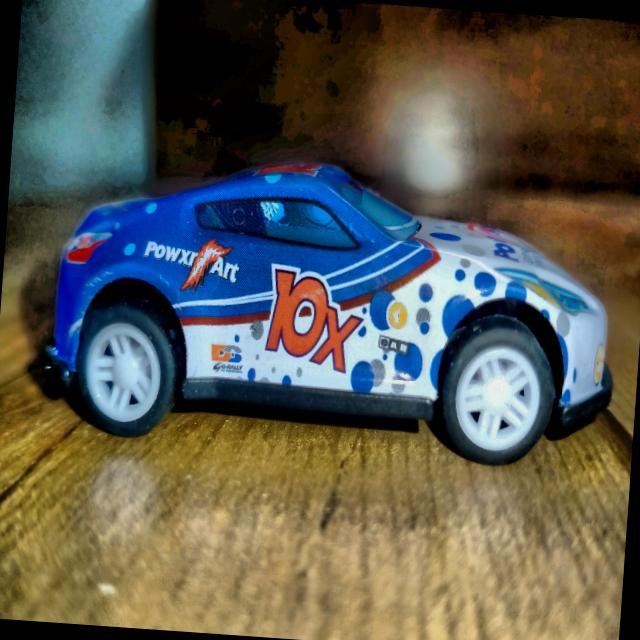Car: (40, 148, 625, 472)
